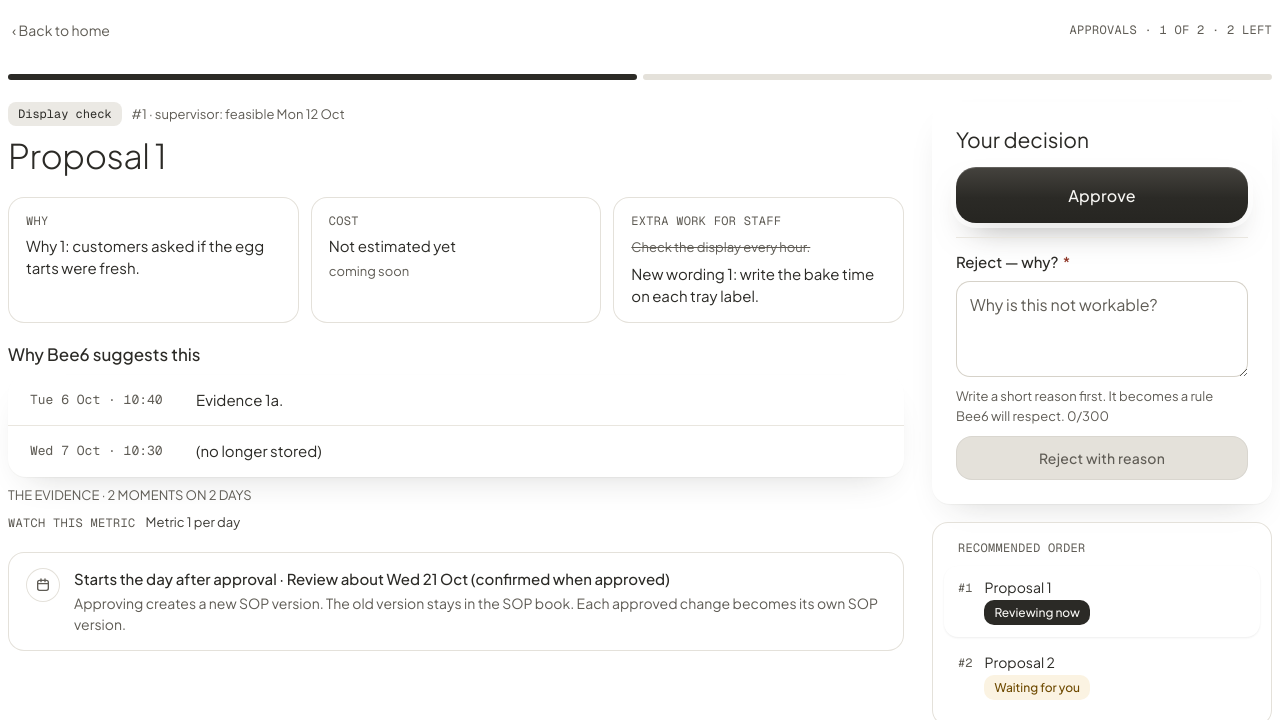
Test: ApprovalsReview — review in order › picking #2 in the order shows #2 alone (one at a time)
Expected: the heading "Proposal 1" is shown, [8,134,166,177]
Step 1. Click the button "#2 Proposal 2 Waiting for you" → (1020, 662), box [944,641,1260,712]
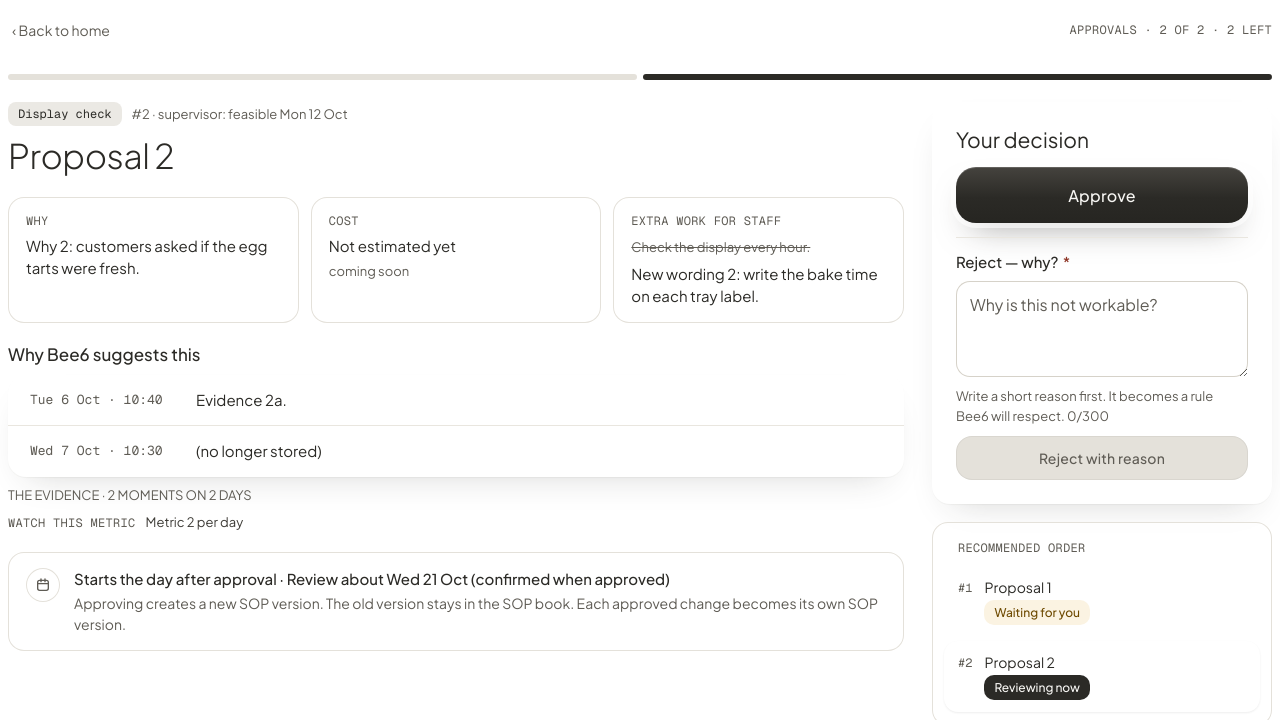
Now the heading "Proposal 2" is shown, box [8,134,174,177]
